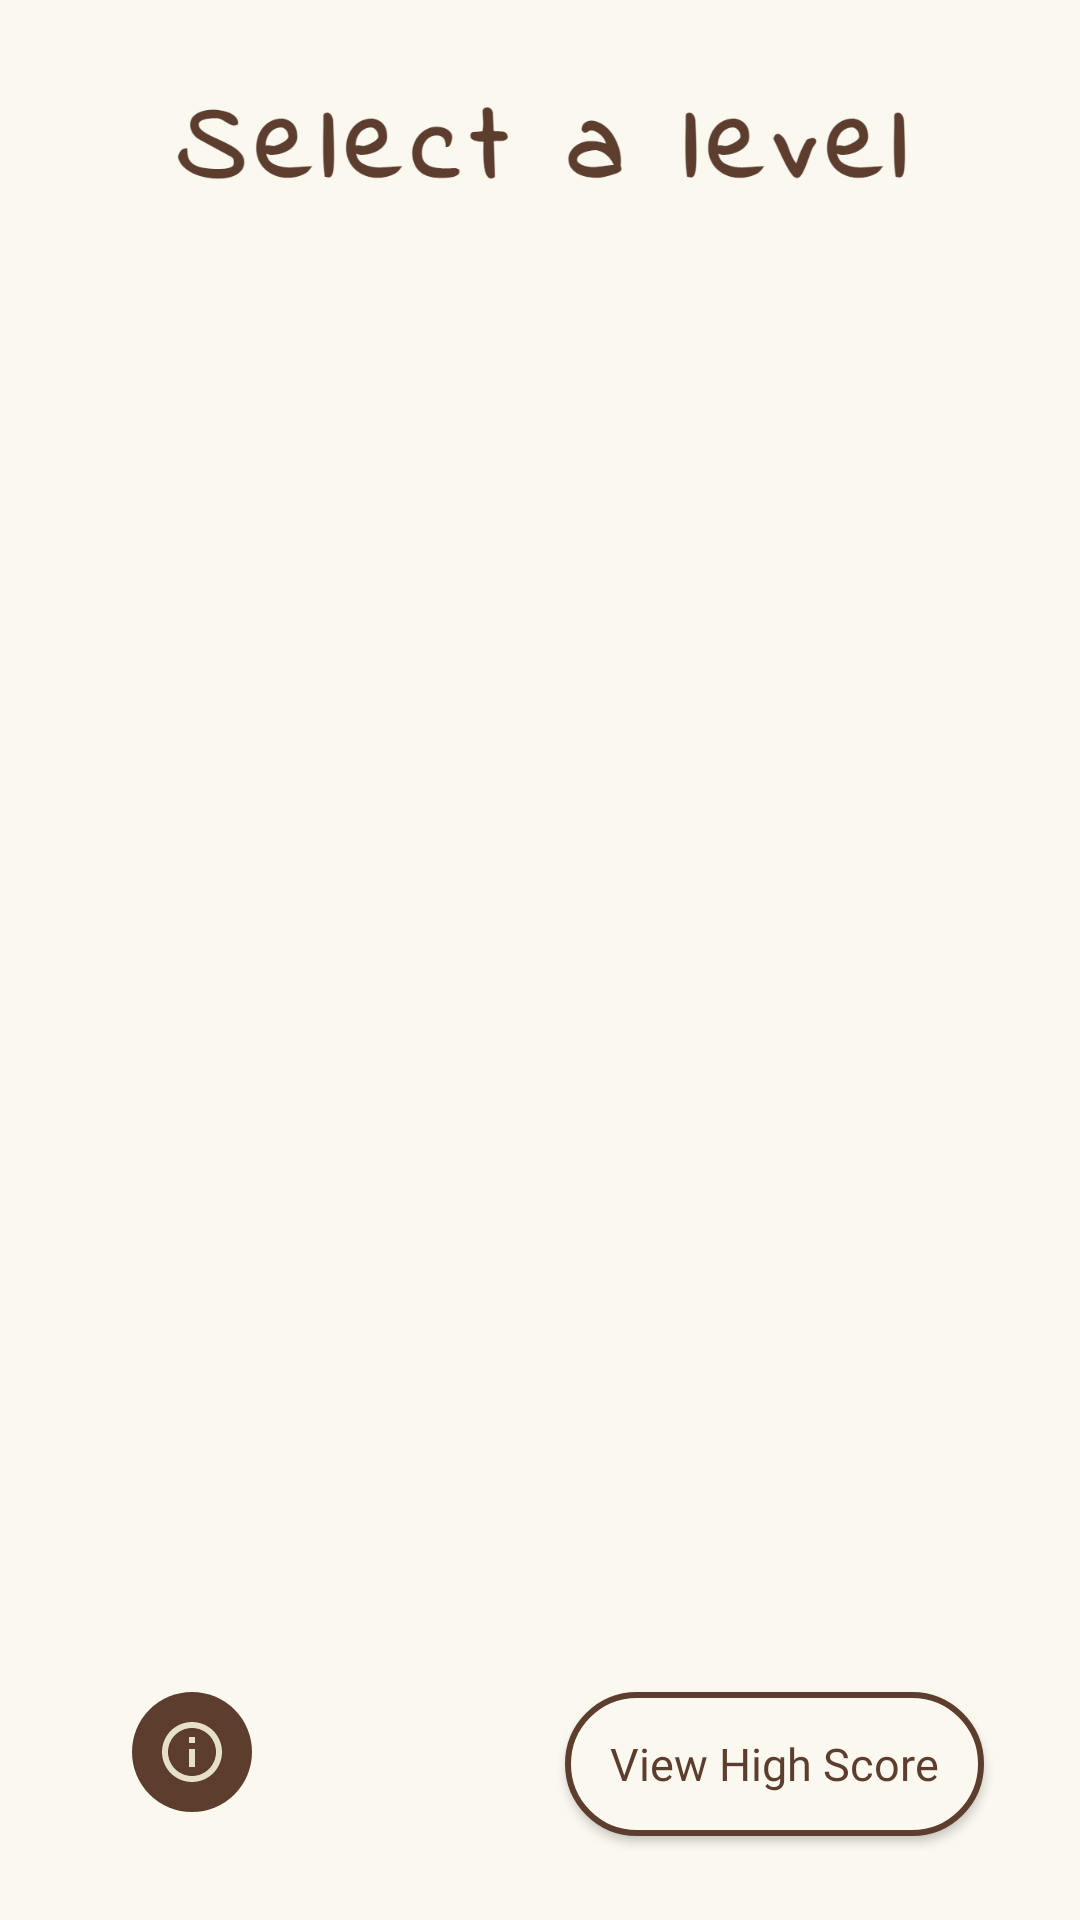

Icon click points for this 1080x1920 phone screenshot, format (x=x, y=y):
info: (x=192, y=1752)
